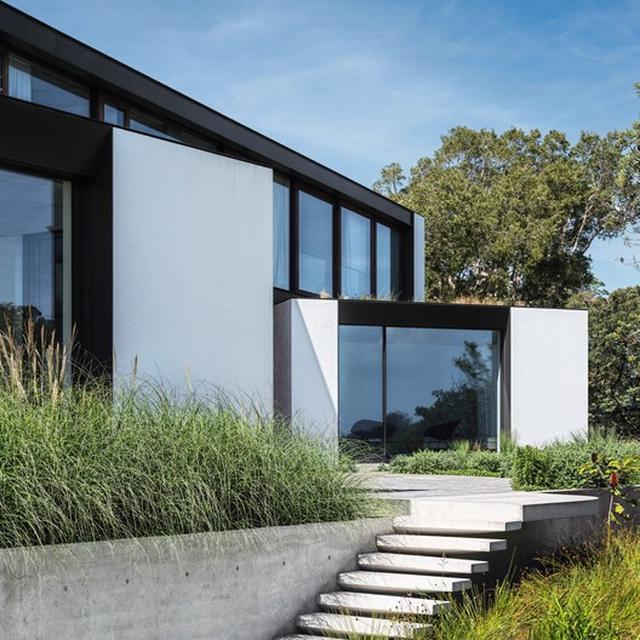building: (0, 0, 592, 478)
